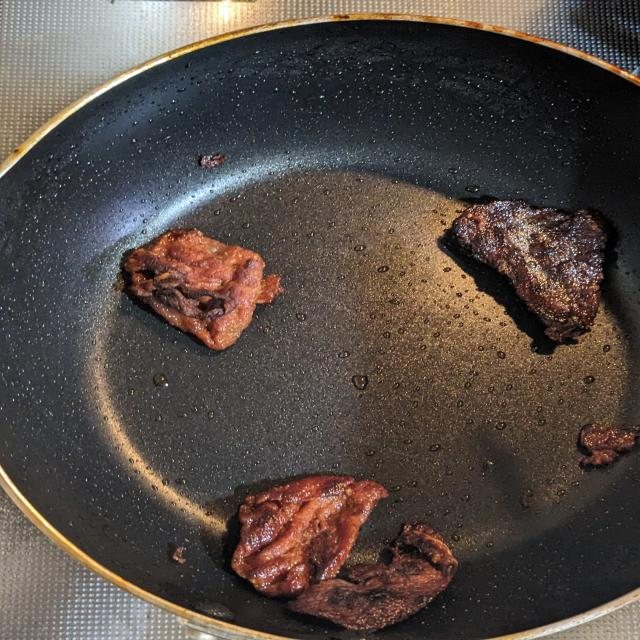overcooked beef,: (434, 196, 618, 356), (267, 511, 474, 637)
overcooked pork: (120, 221, 291, 365), (221, 468, 398, 600)
